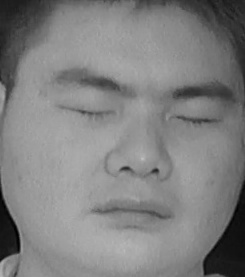blink: (60, 92, 117, 132), (171, 99, 224, 139)
mouth: (82, 186, 177, 239)
